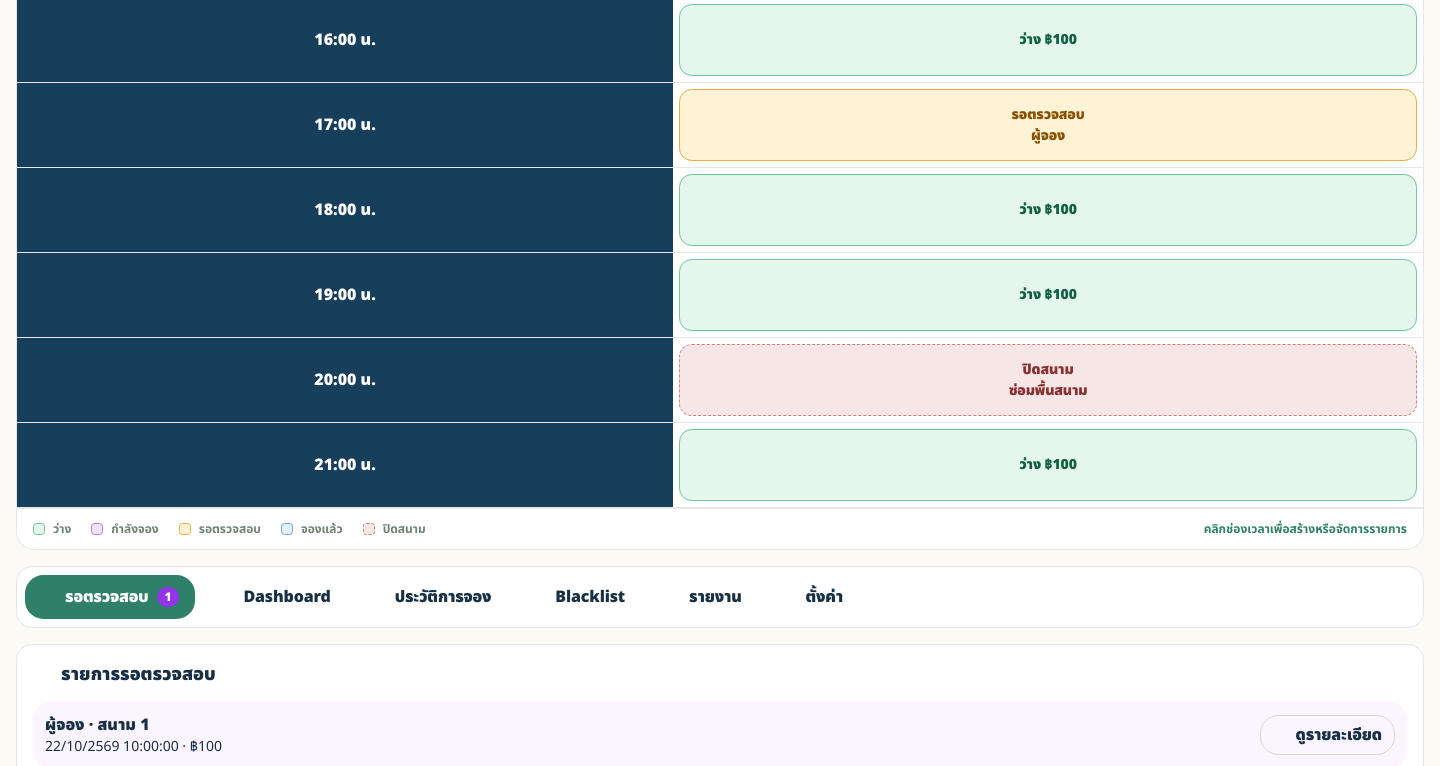
BookingAdminPage › hides removed bank-account and merchant QR types and clears legacy values
The image size is (1440, 766).
(page scrolled)
Click the button "ตั้งค่า".
click(812, 597)  # box [766, 575, 859, 619]
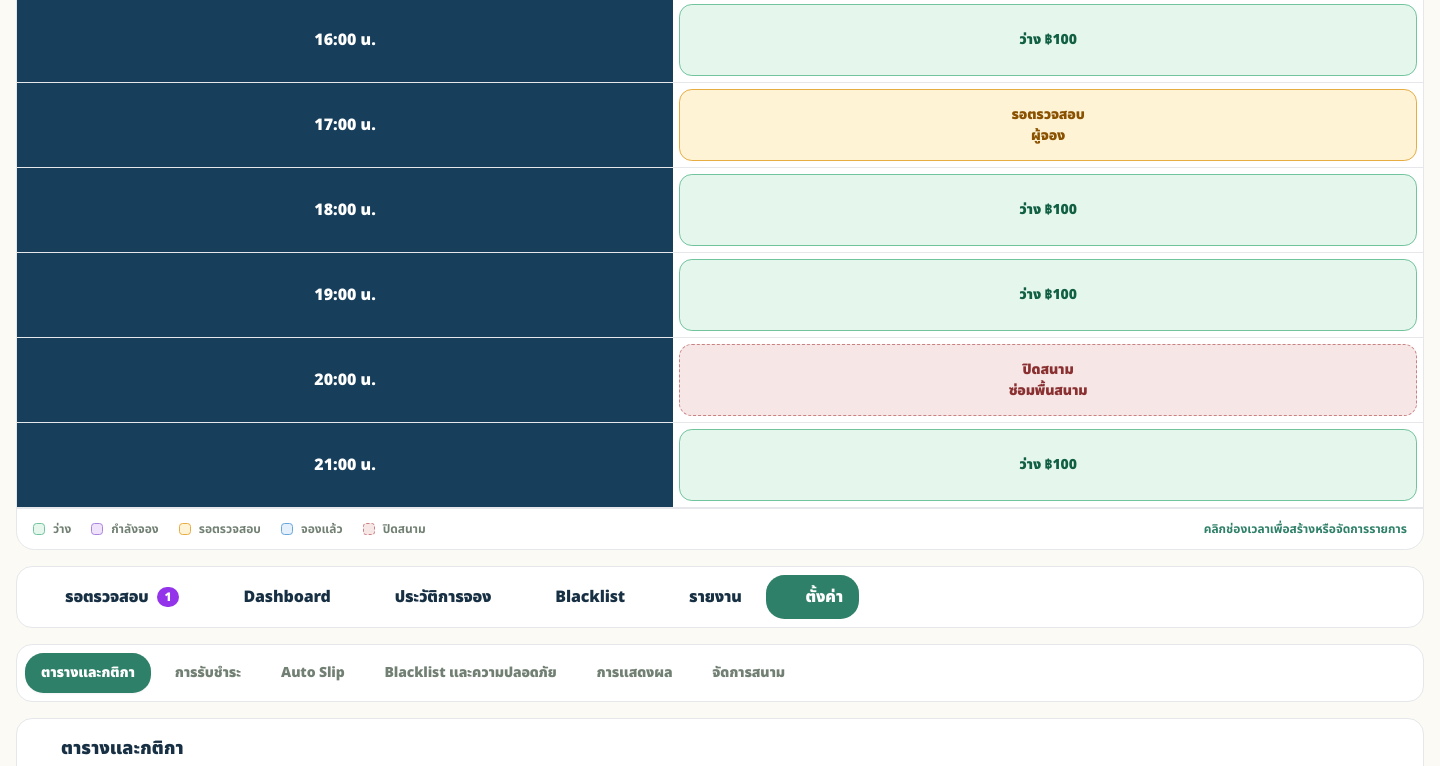
Click the button "การรับชำระ".
click(208, 673)  # box [159, 653, 257, 693]
(page scrolled)
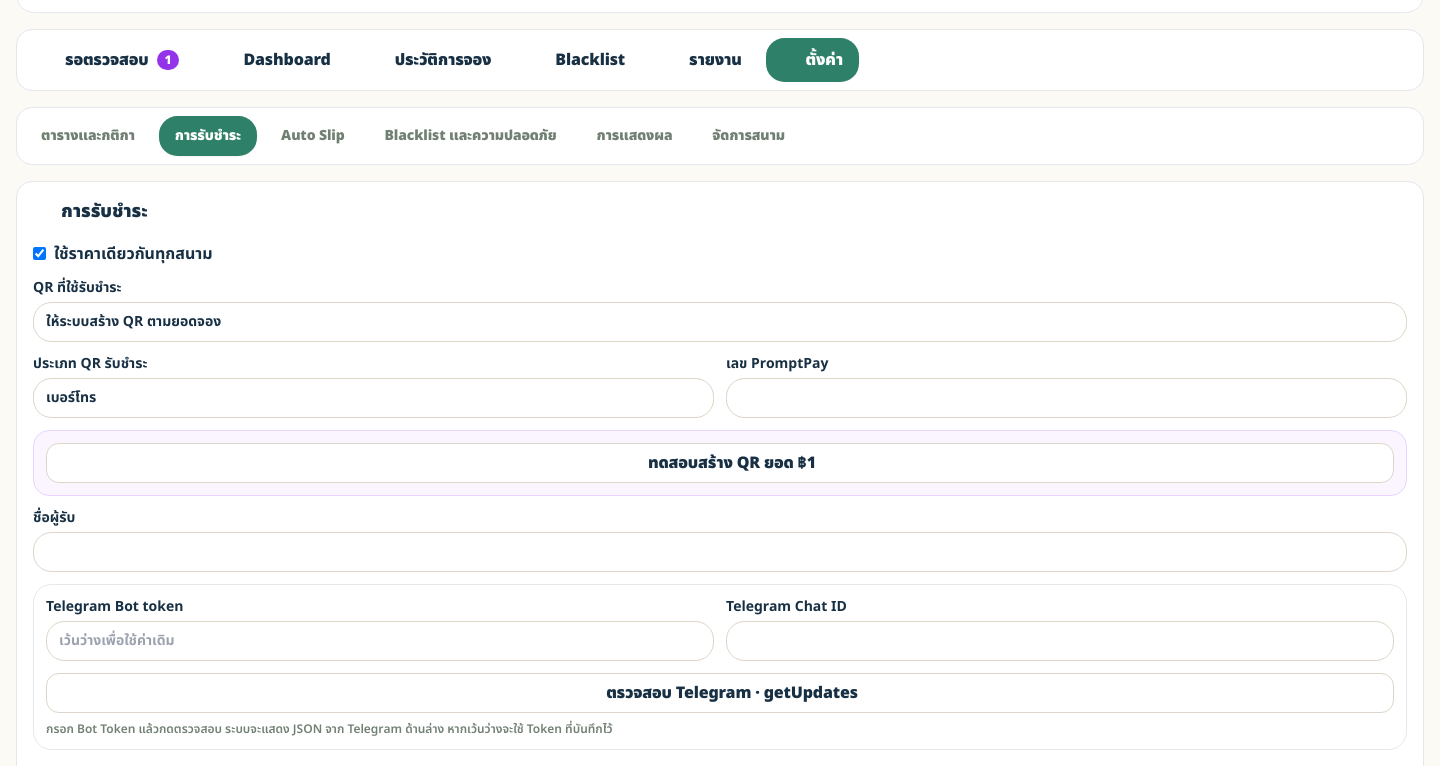
Expected: the dropdown with test id "booking-payment-qr-type" shows "เบอร์โทร", [33, 378, 714, 418]
Expected: the field with test id "booking-payment-qr-id" is empty, [726, 378, 1407, 418]
